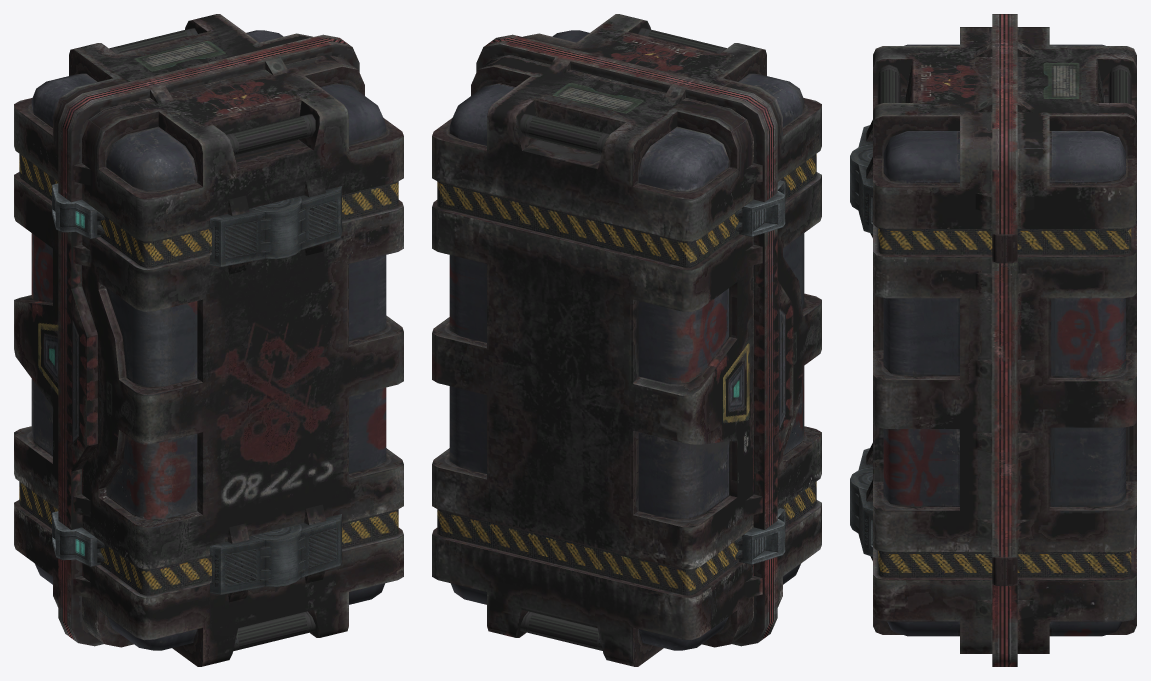
The model's file is t6_wpn_supply_drop_trap_LOD0.obj.
3 renders of one model, left to right at view 1: azimuth 30°, elevation 25°; view 2: azimuth 150°, elevation 25°; view 3: azimuth 270°, elevation 25°, orthographic.
Parts seen in each view (by area): view 1: mtl_t6_wpn_supply_drop_trap; view 2: mtl_t6_wpn_supply_drop_trap; view 3: mtl_t6_wpn_supply_drop_trap.
Boxes of the visible parts, bbox=[...] form: mtl_t6_wpn_supply_drop_trap: bbox=[14, 14, 403, 666]; mtl_t6_wpn_supply_drop_trap: bbox=[432, 14, 821, 666]; mtl_t6_wpn_supply_drop_trap: bbox=[850, 14, 1136, 666].
Bounding box in the file's own units: 108 × 187 × 90.68.
